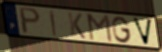G: (111, 15, 133, 44)
I: (48, 9, 58, 38)
K: (66, 11, 87, 40)
M: (86, 13, 114, 44)
P: (18, 6, 42, 35)
V: (130, 16, 154, 47)
